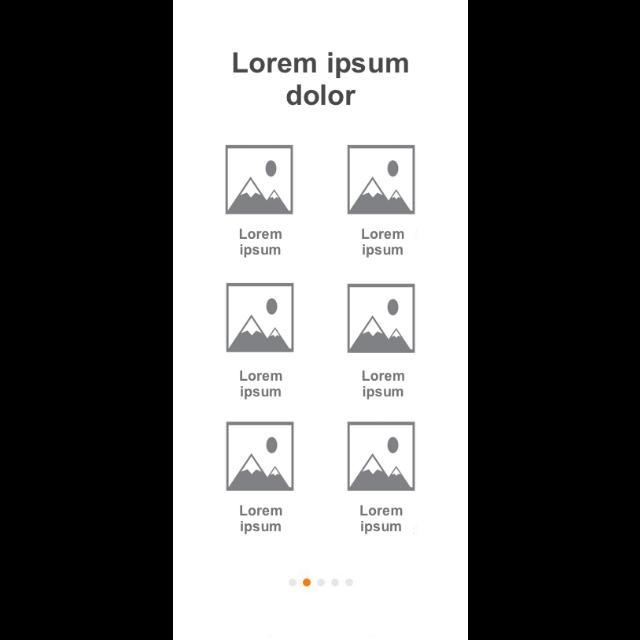image: (224, 283, 294, 353), (346, 284, 416, 354), (225, 145, 293, 215), (346, 145, 414, 215), (226, 422, 294, 492), (346, 422, 414, 492)
pageindicator: (288, 578, 354, 586)
text: (232, 52, 408, 108), (238, 370, 282, 400), (362, 370, 404, 400), (360, 505, 402, 535), (238, 230, 282, 258), (361, 230, 404, 258), (240, 506, 282, 534)
